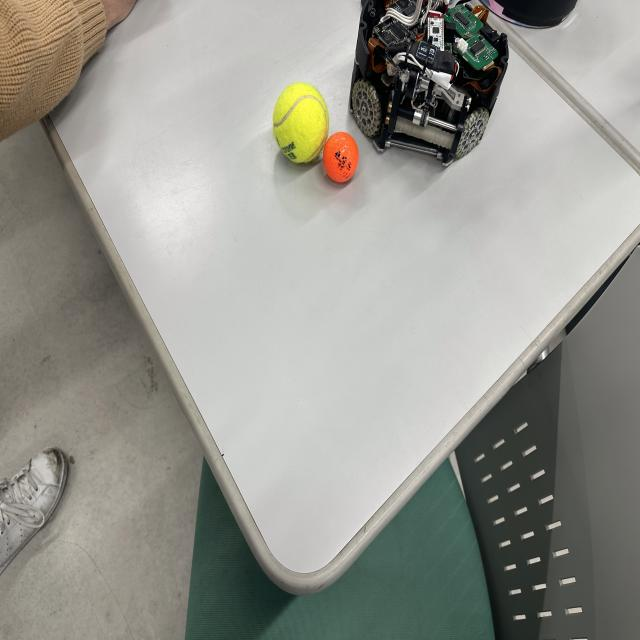ball: (324, 132, 361, 186)
